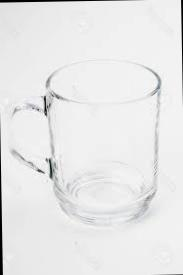glass: (0, 47, 181, 257)
